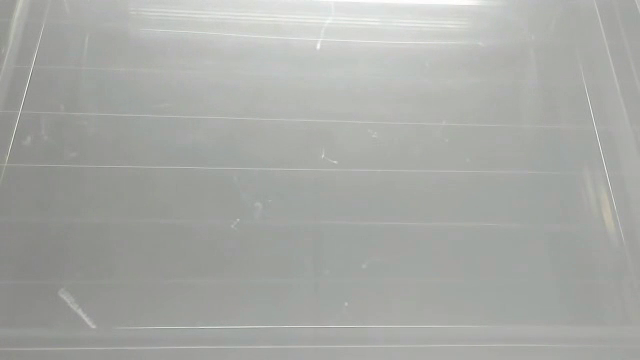alpha: (53, 285, 99, 333)
